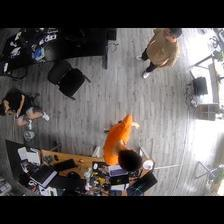normal: (134, 29, 183, 80), (99, 115, 144, 169), (1, 89, 50, 128)
